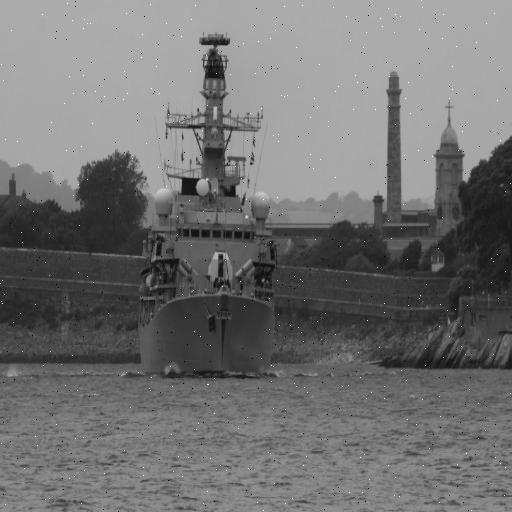Fragata: (136, 30, 275, 378)
